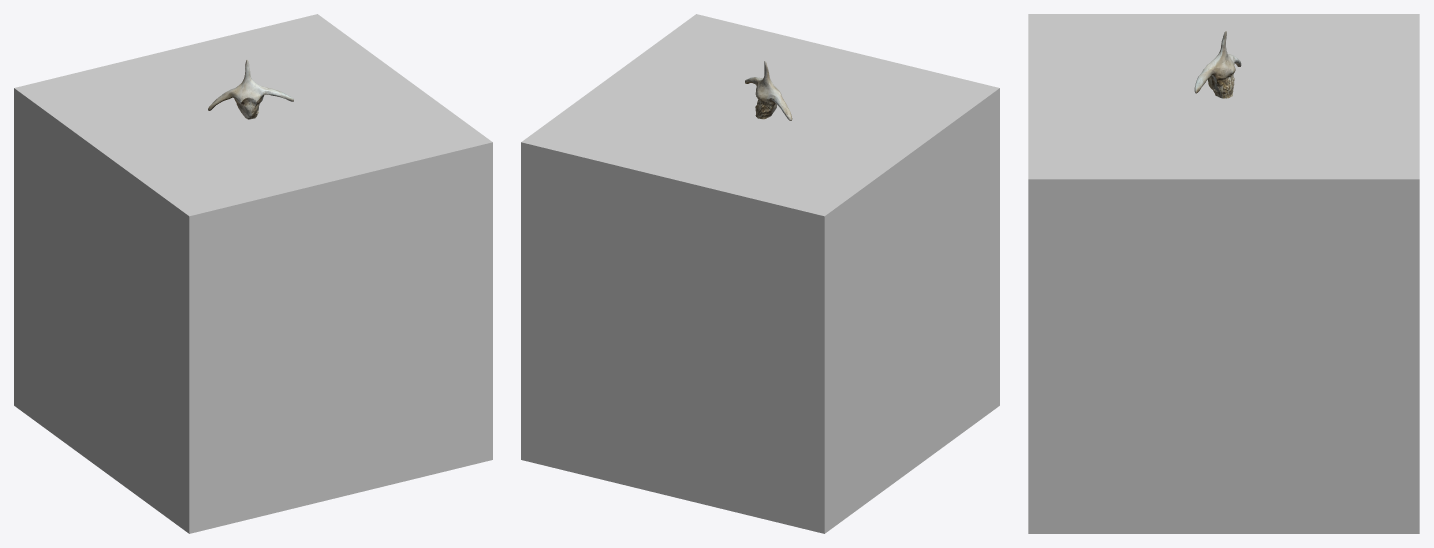
The picture shows the model from 3 angles, left to right: view 1: azimuth 30°, elevation 25°; view 2: azimuth 150°, elevation 25°; view 3: azimuth 270°, elevation 25°; orthographic projection. The views are drawn at different scales.
Visible parts, largest first — view 1: Cube, Object.003; view 2: Cube, Object.003; view 3: Cube, Object.003.
Boxes of the visible parts, x1,y1,x2,y2 form: Cube: (14, 14, 492, 533); Object.003: (208, 60, 293, 119); Cube: (521, 14, 999, 533); Object.003: (745, 61, 792, 120); Cube: (1028, 14, 1419, 533); Object.003: (1194, 31, 1241, 98).
Bounding box in the file's own units: 2 × 2.35 × 2.
2 materials, 1 textured.
